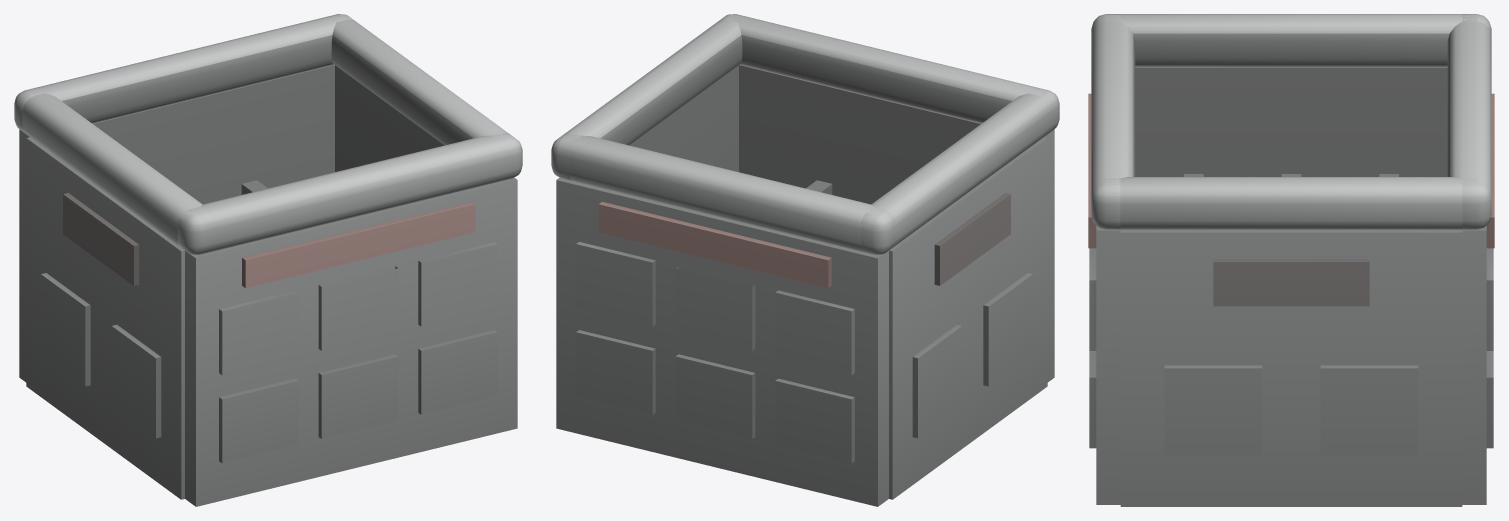
File: crate.glb
The picture shows the model from 3 angles, left to right: view 1: azimuth 30°, elevation 25°; view 2: azimuth 150°, elevation 25°; view 3: azimuth 270°, elevation 25°; orthographic projection. The views are drawn at different scales.
Visible parts, largest first — view 1: crate.001; view 2: crate.001; view 3: crate.001.
Boxes of the visible parts, x1=… form: crate.001: x1=14, y1=14, x2=522, y2=506; crate.001: x1=551, y1=14, x2=1059, y2=506; crate.001: x1=1088, y1=14, x2=1494, y2=506.
Size of the model in its own units: 0.444 by 0.36 by 0.416.
